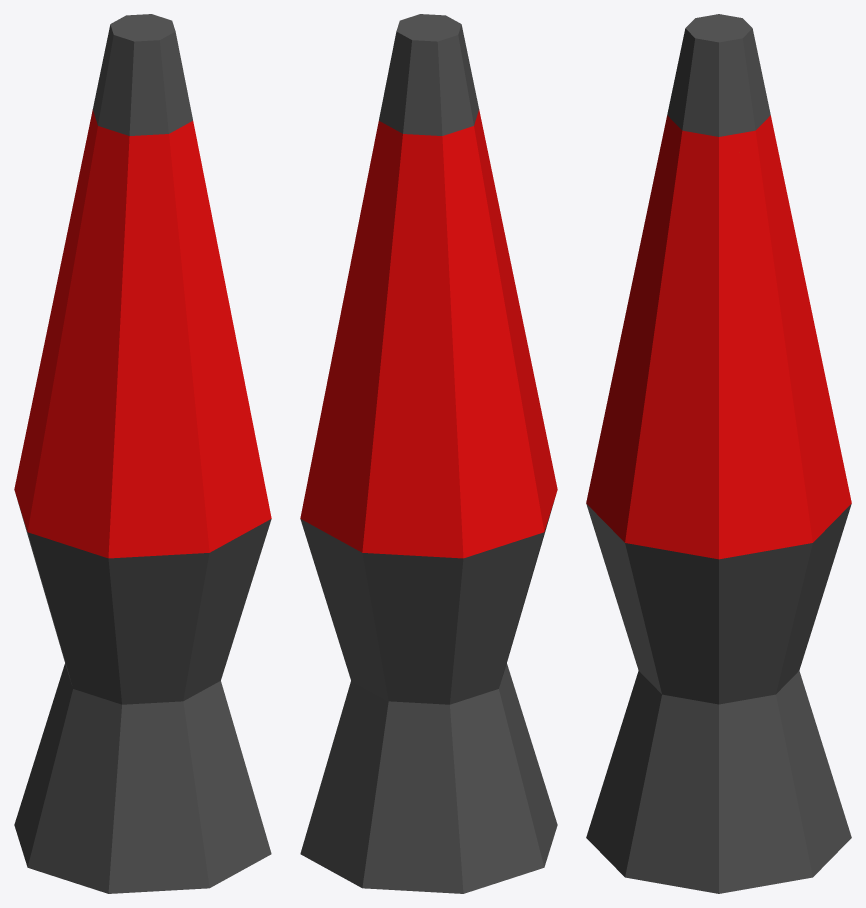
Rendered from lava lamp.obj.
3 views of the same model, side by side, from view 1: azimuth 30°, elevation 25°; view 2: azimuth 150°, elevation 25°; view 3: azimuth 270°, elevation 25° (orthographic).
Size of the model in its own units: 2 by 6.72 by 2.
